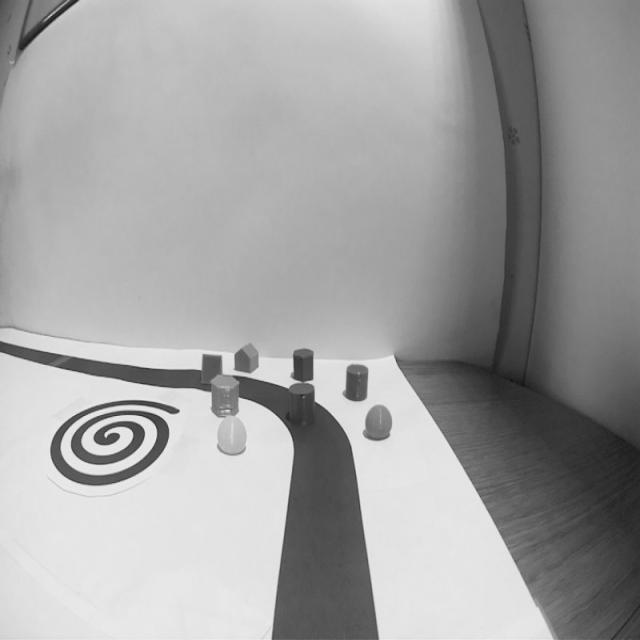ball: (216, 413, 248, 458), (362, 403, 394, 443)
cylinder: (288, 382, 315, 427), (344, 363, 368, 402)
hexagon: (210, 372, 239, 417), (291, 347, 315, 382)
home: (233, 341, 259, 374)
lineStraight: (269, 478, 376, 640)
nest: (48, 398, 182, 493)
triangle: (200, 350, 224, 387)
